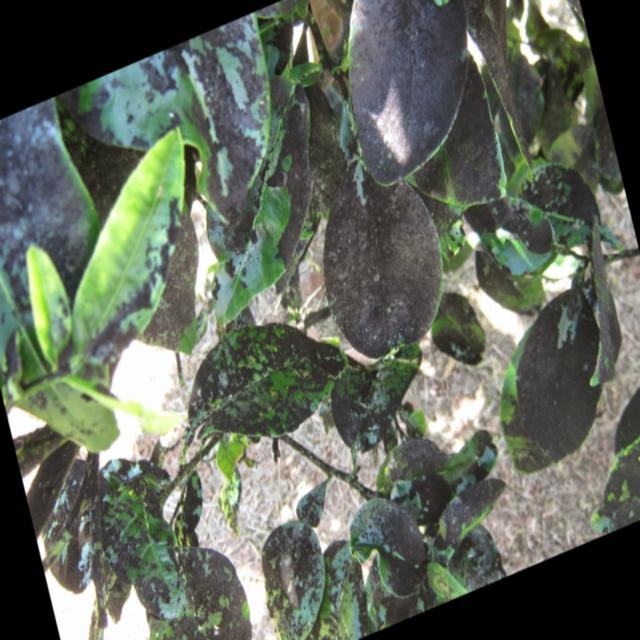Sooty Mold: (29, 69, 629, 640)
